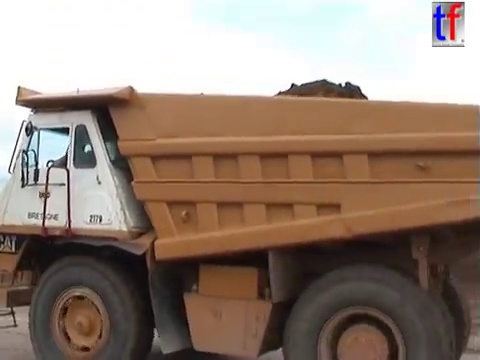truck: (1, 81, 480, 360)
